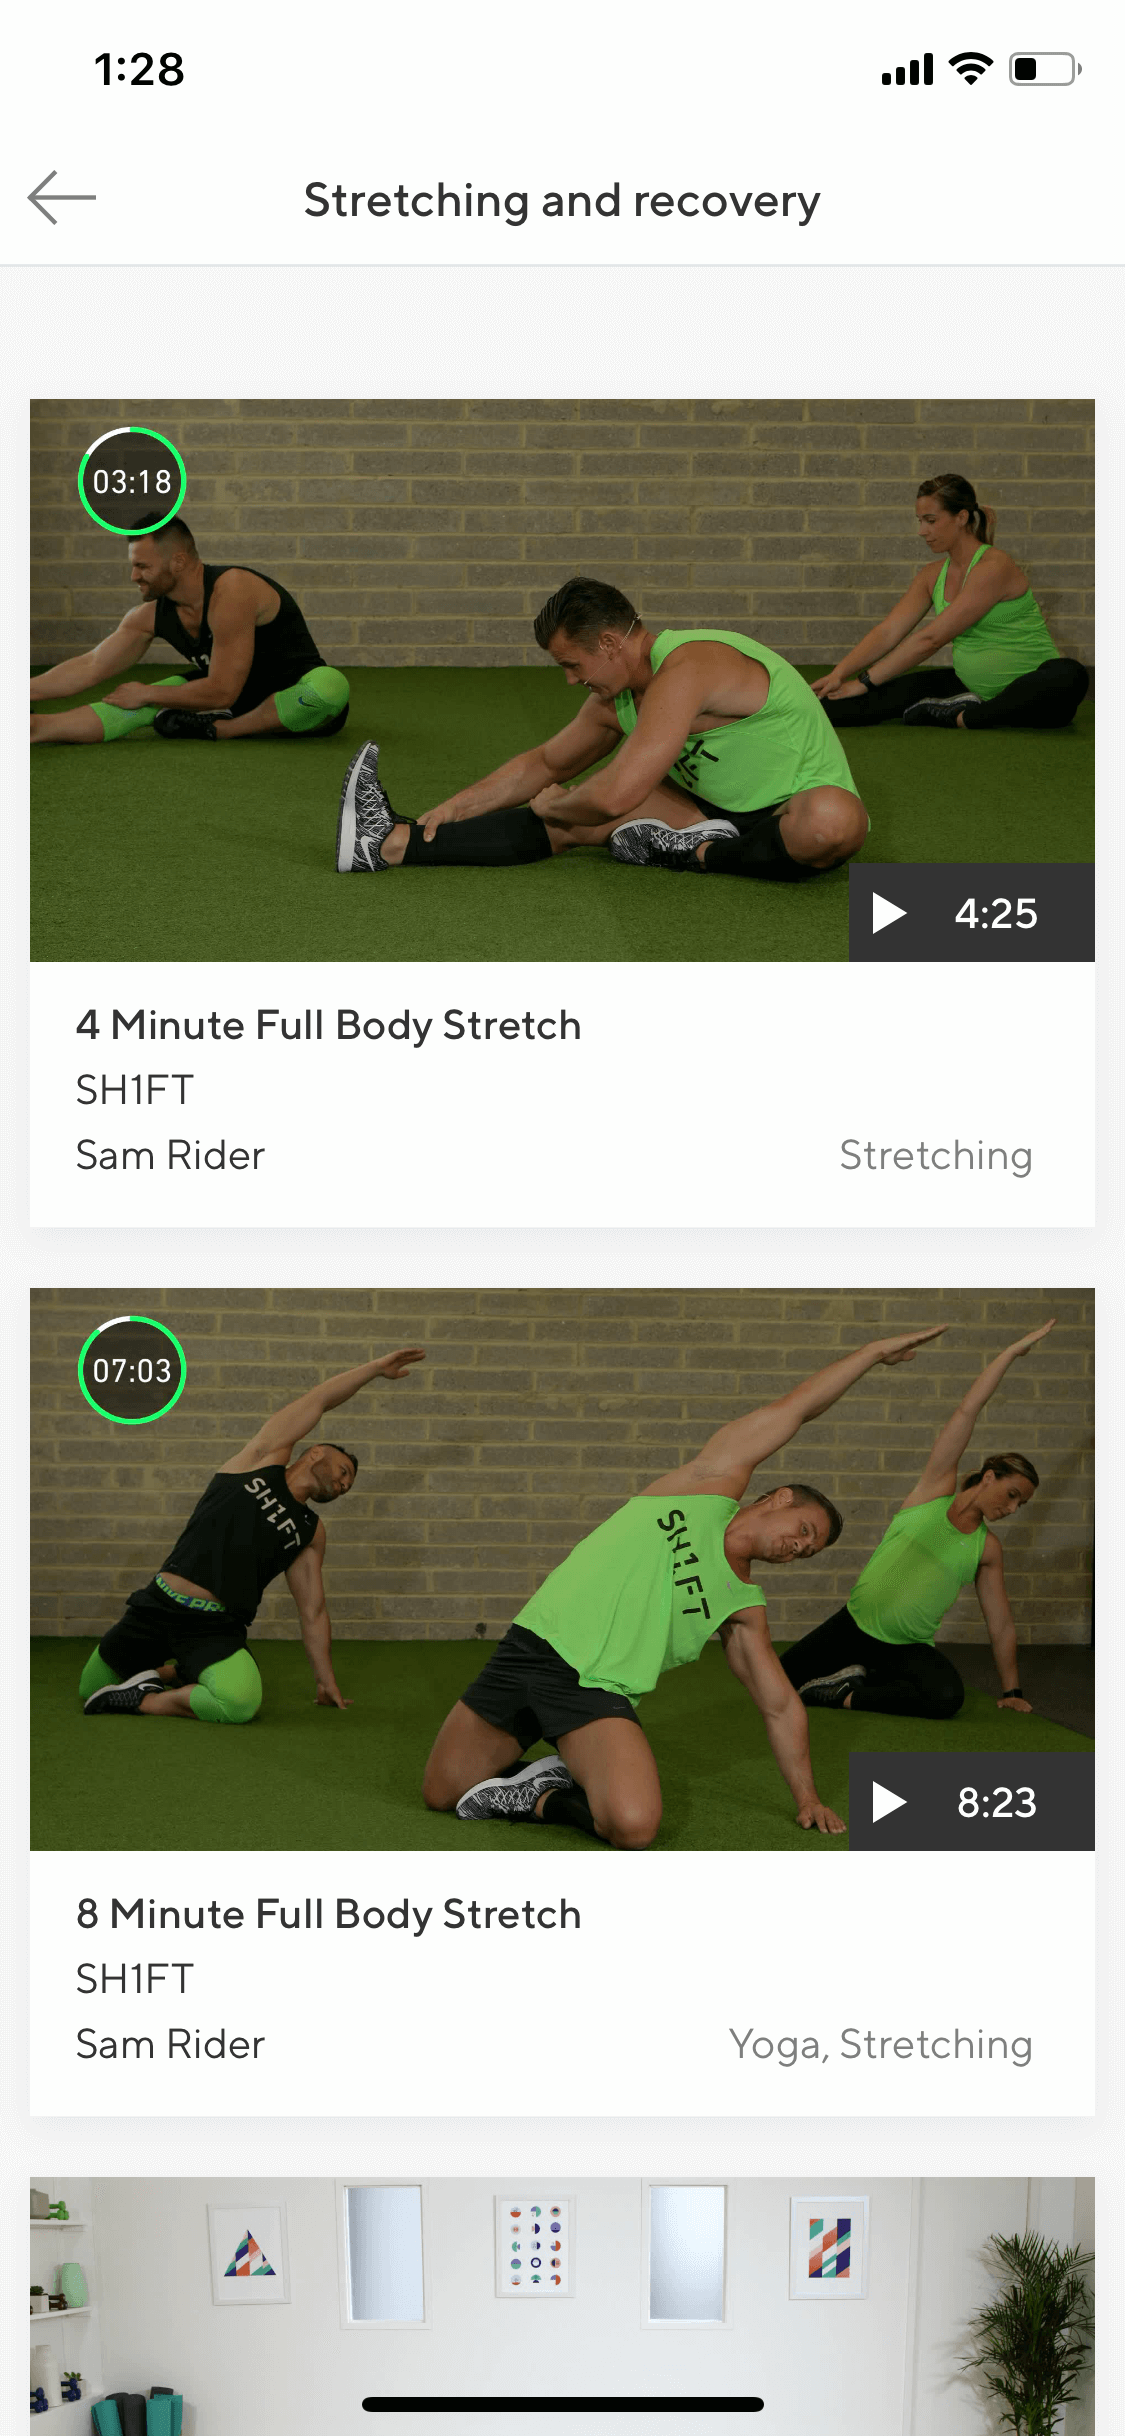Buttons: (6, 132, 135, 247)
